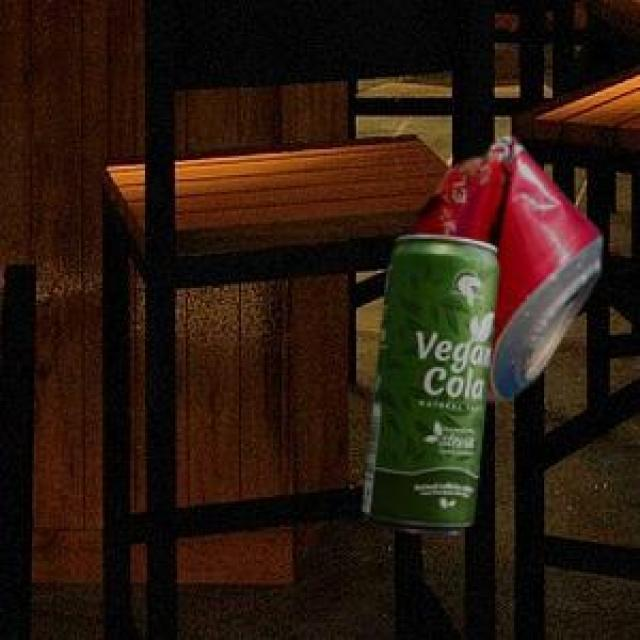Can: (413, 133, 598, 398), (359, 231, 496, 532)
